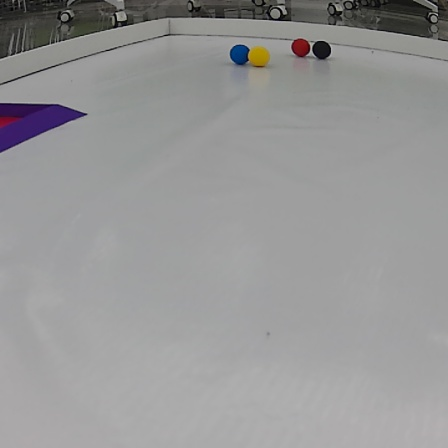black: (309, 39, 335, 61)
blue: (226, 43, 253, 66)
red: (286, 37, 311, 59)
red_aim: (0, 102, 91, 156)
yellow: (247, 46, 273, 68)
